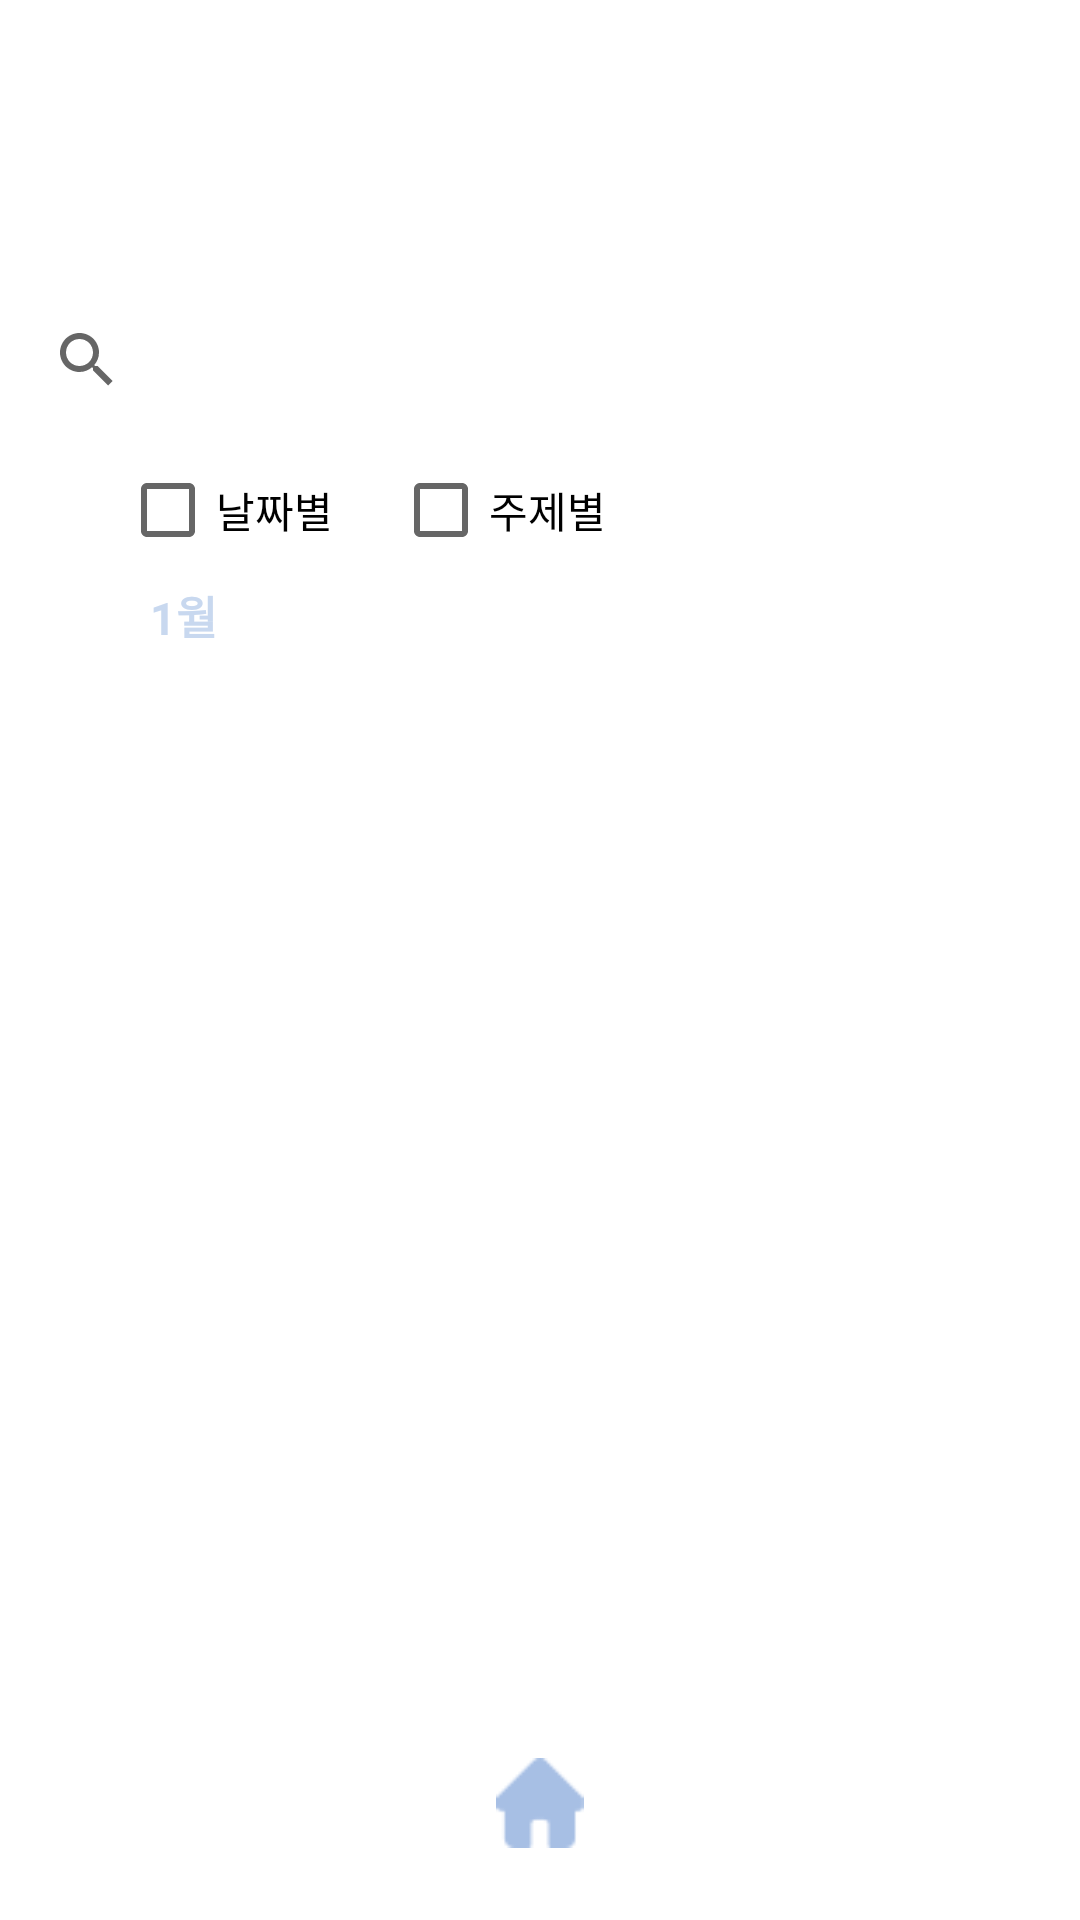

Named icons in this screenshot (1080x1920) and their centers, [x,y]:
home: [540,1803]
